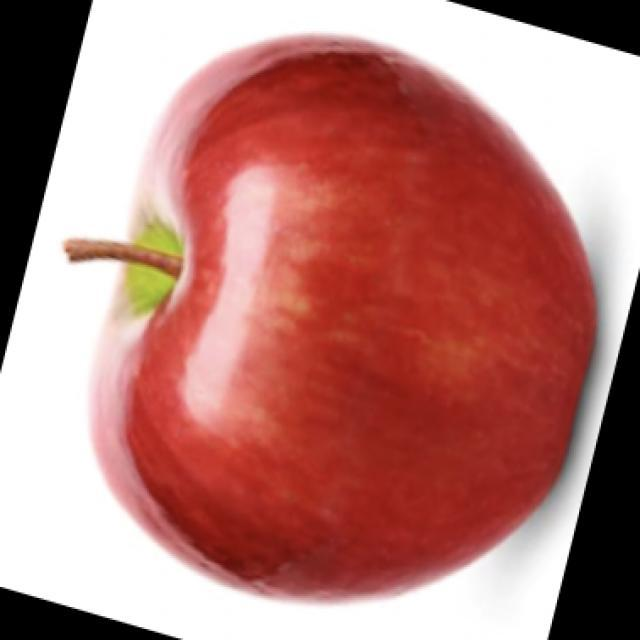Fresh Apple: (115, 48, 620, 640)
